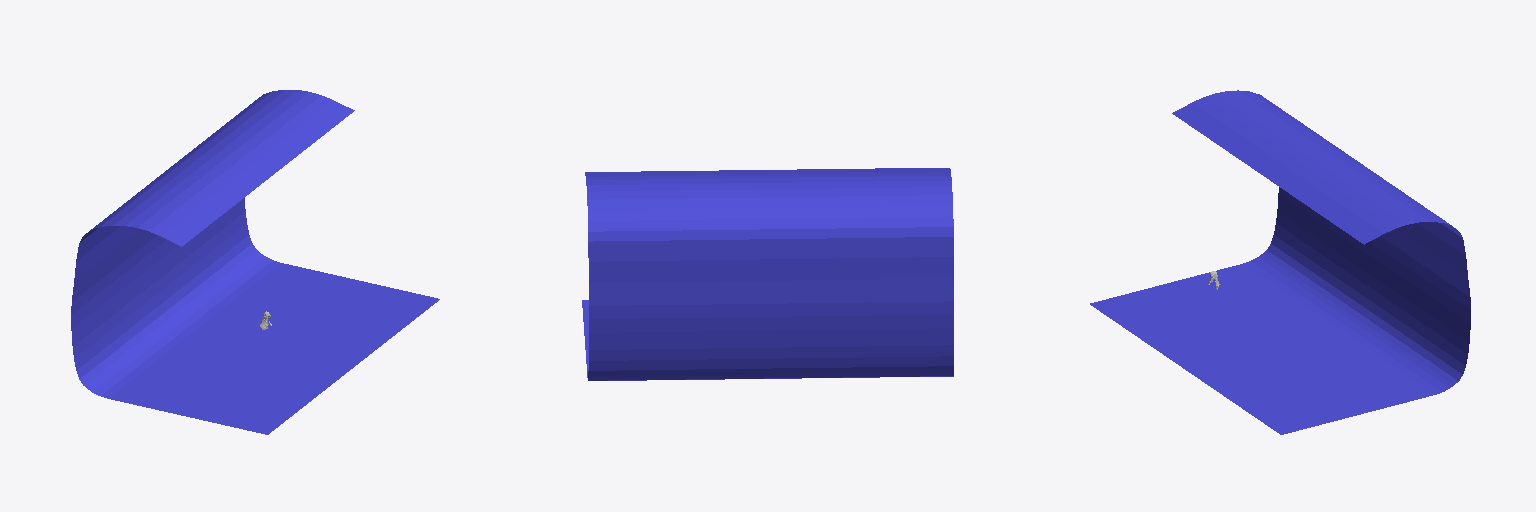
The model's file is hair2_black_obj.obj.
3 views of the same model, side by side, from view 1: azimuth 30°, elevation 25°; view 2: azimuth 150°, elevation 25°; view 3: azimuth 270°, elevation 25° (orthographic).
Parts seen in each view (by area): view 1: background; view 2: background; view 3: background.
Boxes of the visible parts, <box> form: background: <box>71,90,439,434</box>; background: <box>582,168,953,380</box>; background: <box>1090,90,1470,434</box>.
Size of the model in its own units: 609 by 279 by 544.